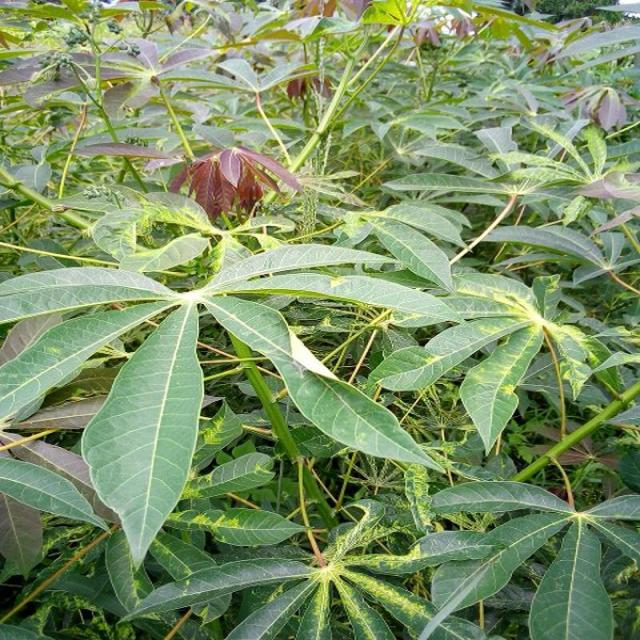cassava leaf: (204, 291, 446, 474), (81, 298, 206, 570)
